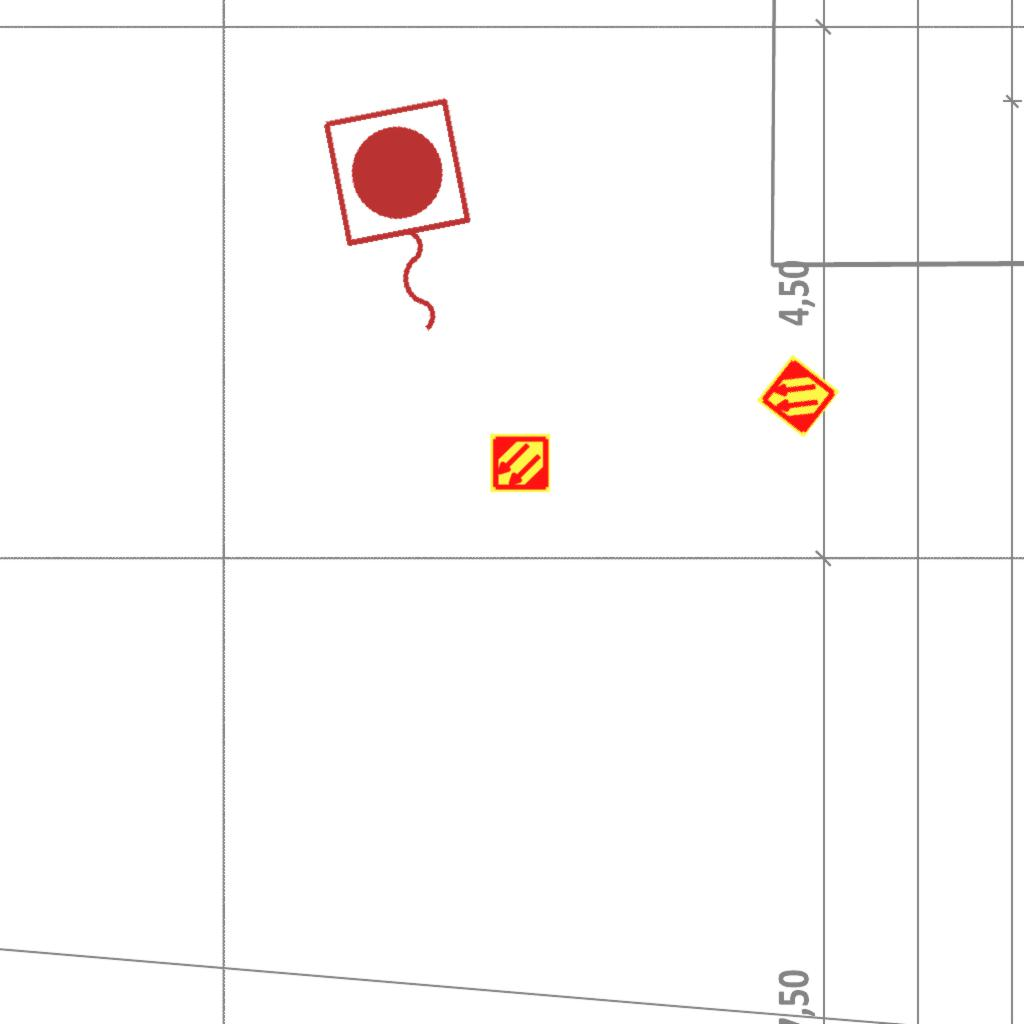ASR_Ansaugrauchmelder: (754, 352, 842, 440), (489, 432, 551, 494)
Zugtaster: (311, 88, 499, 356)
